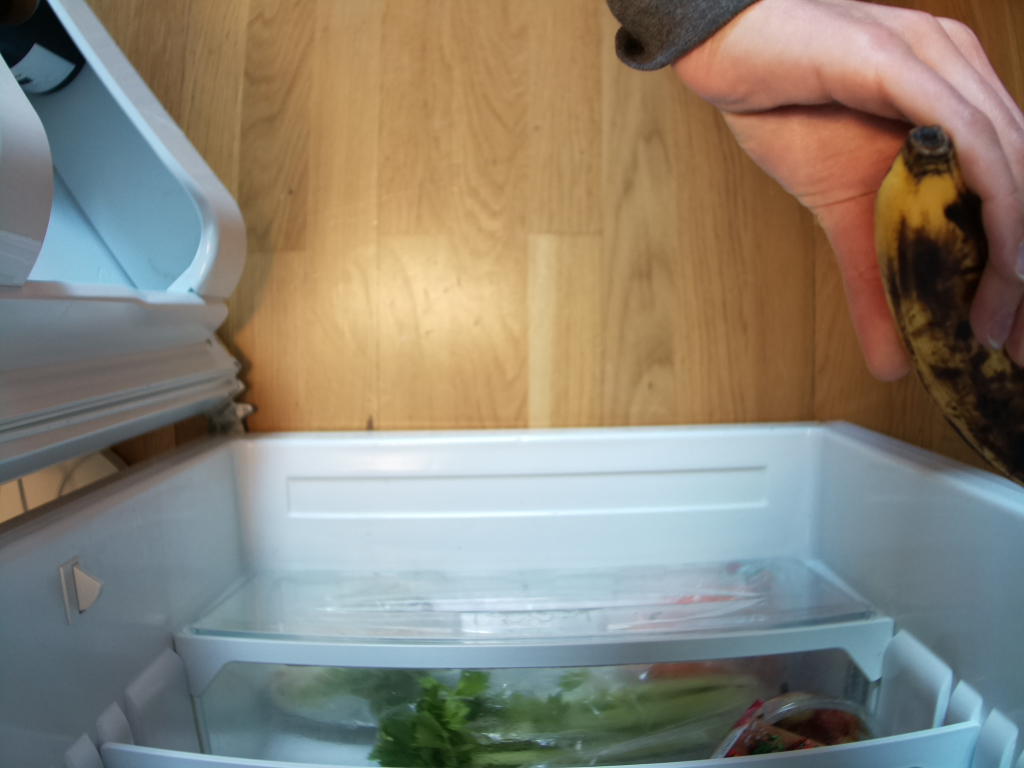banana-overripe: (870, 124, 1024, 484)
